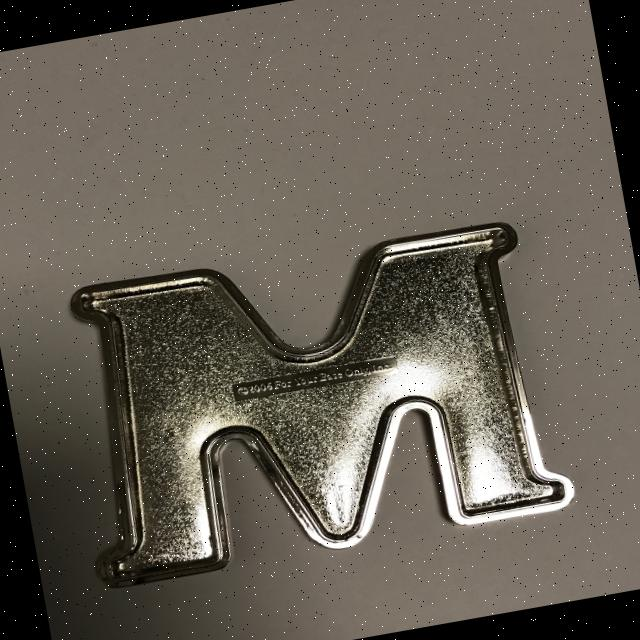metal: (46, 206, 578, 594)
